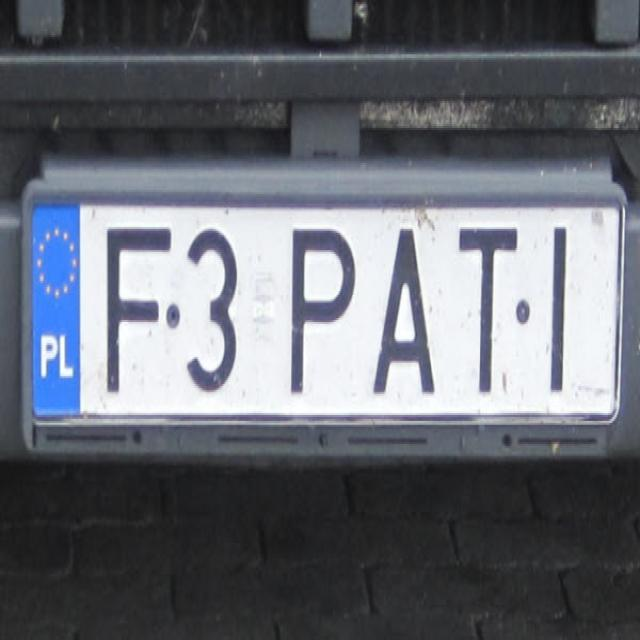pl_license_plate: (31, 202, 618, 413)
